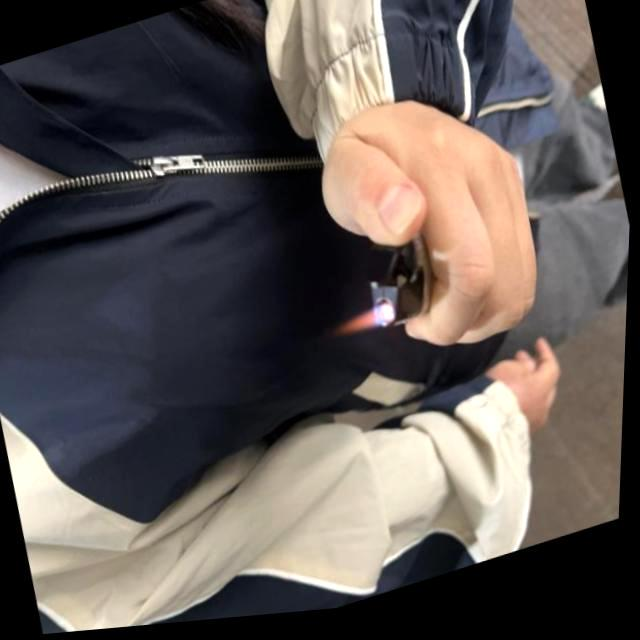fire: (334, 310, 398, 346)
